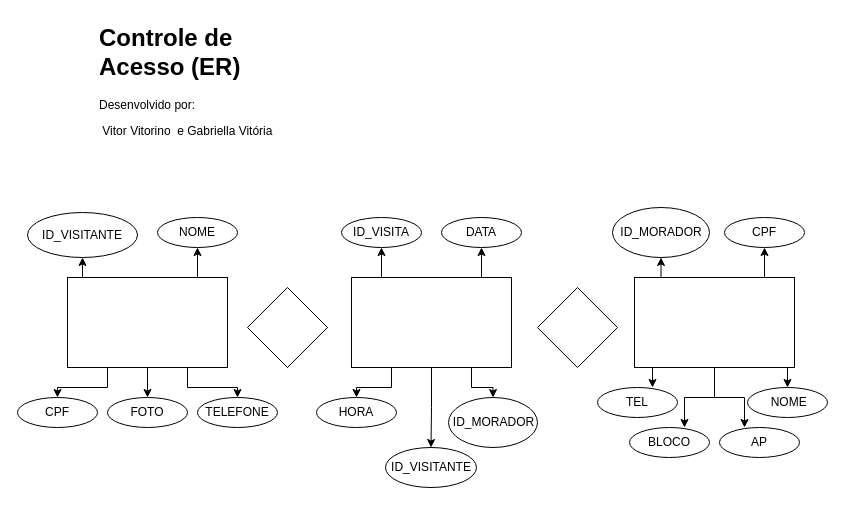
Image size: 845x505. Some labels were removed from this diagram. Here are the shapes that lost their labels. From the top down, the centre of each, then its label:
the point at 147,322: VISITANTE
the point at 431,322: VISITA
the point at 714,322: MORADOR
